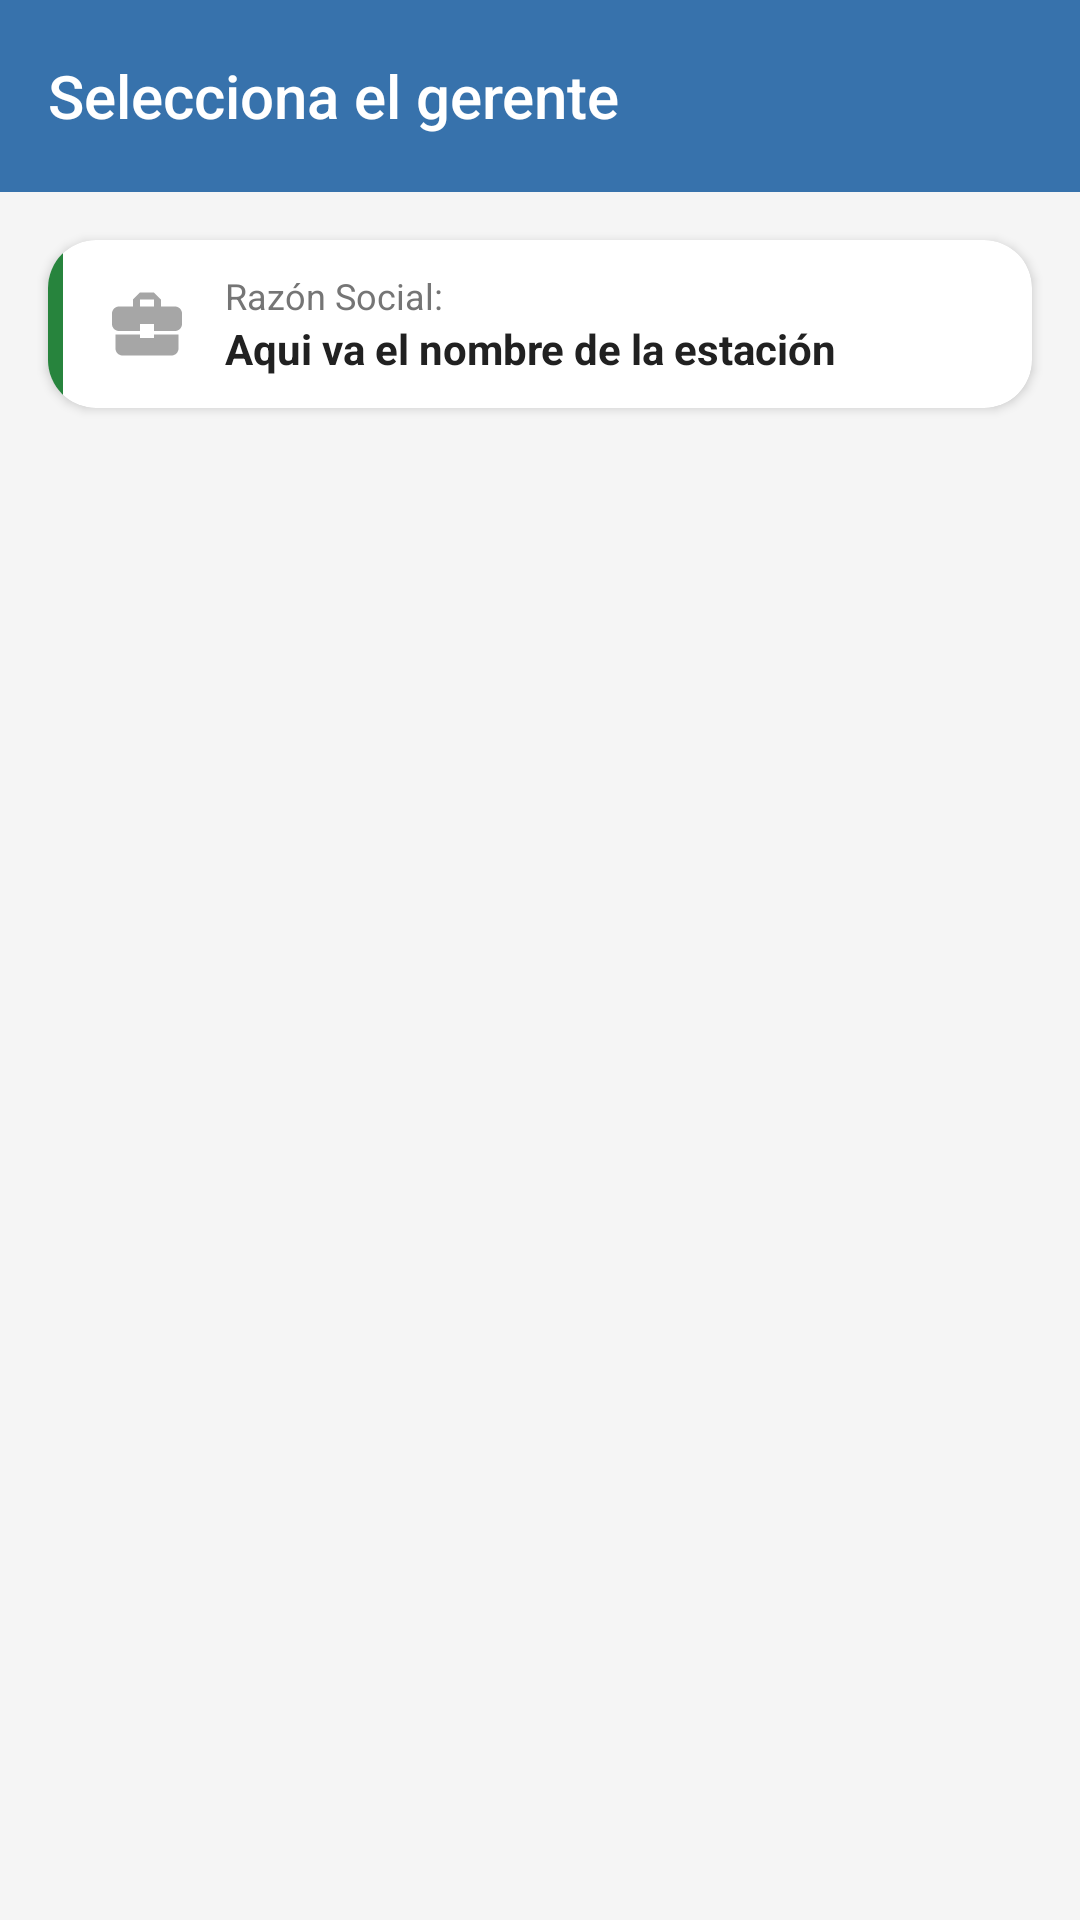

Icon bounding boxes for this 1080 × 1920 phone screenshot, format (x1, y1, x2, y2):
business: (112, 292, 182, 356)
